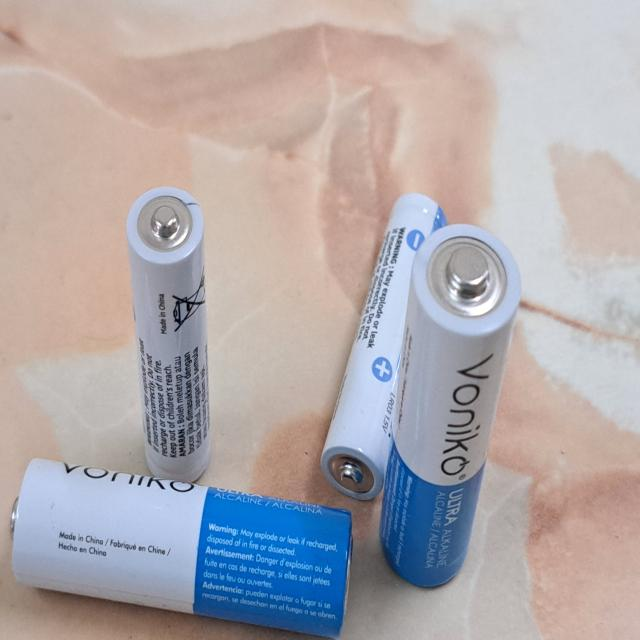battery: (10, 454, 352, 640), (379, 218, 522, 588), (319, 197, 447, 502), (127, 185, 210, 479)
